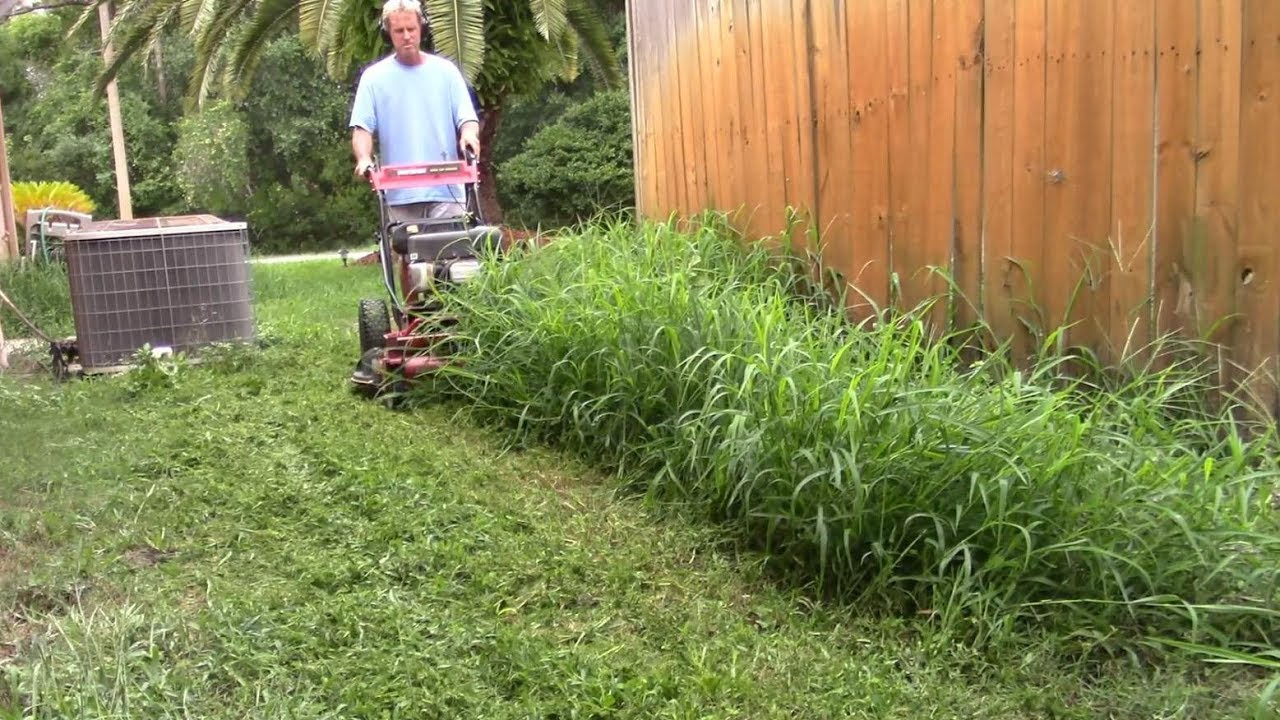grass: (1, 457, 1280, 720)
